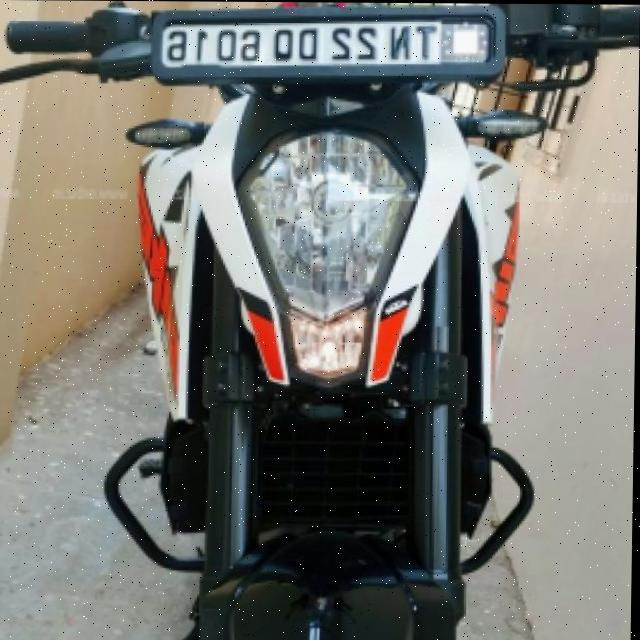plate: (150, 3, 508, 83)
